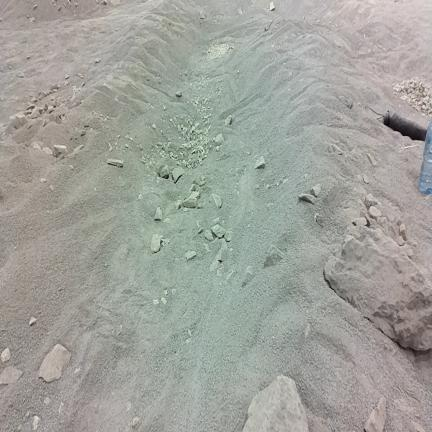Rock: (325, 226, 431, 350), (243, 376, 308, 431), (394, 77, 431, 115), (39, 344, 71, 382), (365, 397, 385, 431), (264, 245, 283, 267), (0, 367, 22, 386), (7, 113, 27, 132), (187, 148, 206, 167), (182, 191, 199, 208), (242, 266, 253, 286), (150, 234, 161, 253), (212, 224, 225, 238), (339, 96, 353, 109), (299, 194, 317, 204), (365, 194, 377, 209), (172, 167, 184, 182), (368, 206, 381, 219), (377, 217, 389, 231), (214, 248, 226, 262), (157, 165, 169, 178), (54, 145, 67, 157), (30, 107, 43, 119), (210, 194, 221, 208), (46, 113, 60, 124), (384, 207, 394, 222), (329, 144, 343, 154), (0, 348, 10, 362), (184, 250, 196, 261), (311, 184, 321, 197), (364, 213, 374, 226), (367, 153, 377, 166), (132, 416, 141, 430), (255, 156, 265, 168), (108, 159, 123, 167), (412, 422, 425, 431), (354, 217, 367, 226), (399, 224, 406, 240), (154, 207, 162, 221), (220, 238, 228, 252), (205, 230, 215, 241), (226, 270, 236, 281), (210, 261, 220, 271), (215, 134, 224, 145), (314, 214, 323, 225), (224, 115, 233, 126), (33, 416, 40, 430), (217, 263, 224, 276), (304, 323, 310, 338), (161, 236, 170, 246), (73, 145, 84, 153), (197, 221, 204, 233), (189, 184, 198, 193), (224, 231, 232, 241), (396, 236, 404, 246), (31, 142, 41, 150), (42, 147, 52, 155), (26, 103, 35, 111), (175, 200, 182, 210), (29, 317, 36, 326), (401, 95, 410, 102), (59, 402, 64, 414), (199, 176, 205, 186), (110, 0, 120, 6), (40, 91, 47, 99), (50, 84, 58, 91), (31, 96, 38, 104), (126, 401, 131, 412), (192, 178, 199, 185), (213, 217, 220, 224), (44, 397, 50, 405), (363, 175, 369, 183), (270, 2, 275, 11), (397, 217, 402, 226), (18, 71, 24, 78), (200, 11, 205, 19), (176, 91, 182, 97), (198, 227, 204, 233), (80, 130, 86, 136), (238, 8, 243, 15), (25, 411, 30, 418), (197, 203, 204, 208), (161, 297, 166, 304), (44, 103, 48, 111), (153, 299, 159, 304), (84, 122, 89, 128), (41, 178, 46, 183), (30, 17, 35, 22), (102, 0, 107, 5), (49, 185, 53, 191), (152, 124, 156, 130), (78, 74, 84, 78), (96, 58, 100, 63), (255, 184, 259, 189), (65, 74, 69, 79), (33, 5, 37, 10), (172, 289, 176, 294), (164, 290, 167, 296), (163, 105, 166, 110), (216, 146, 219, 151)
